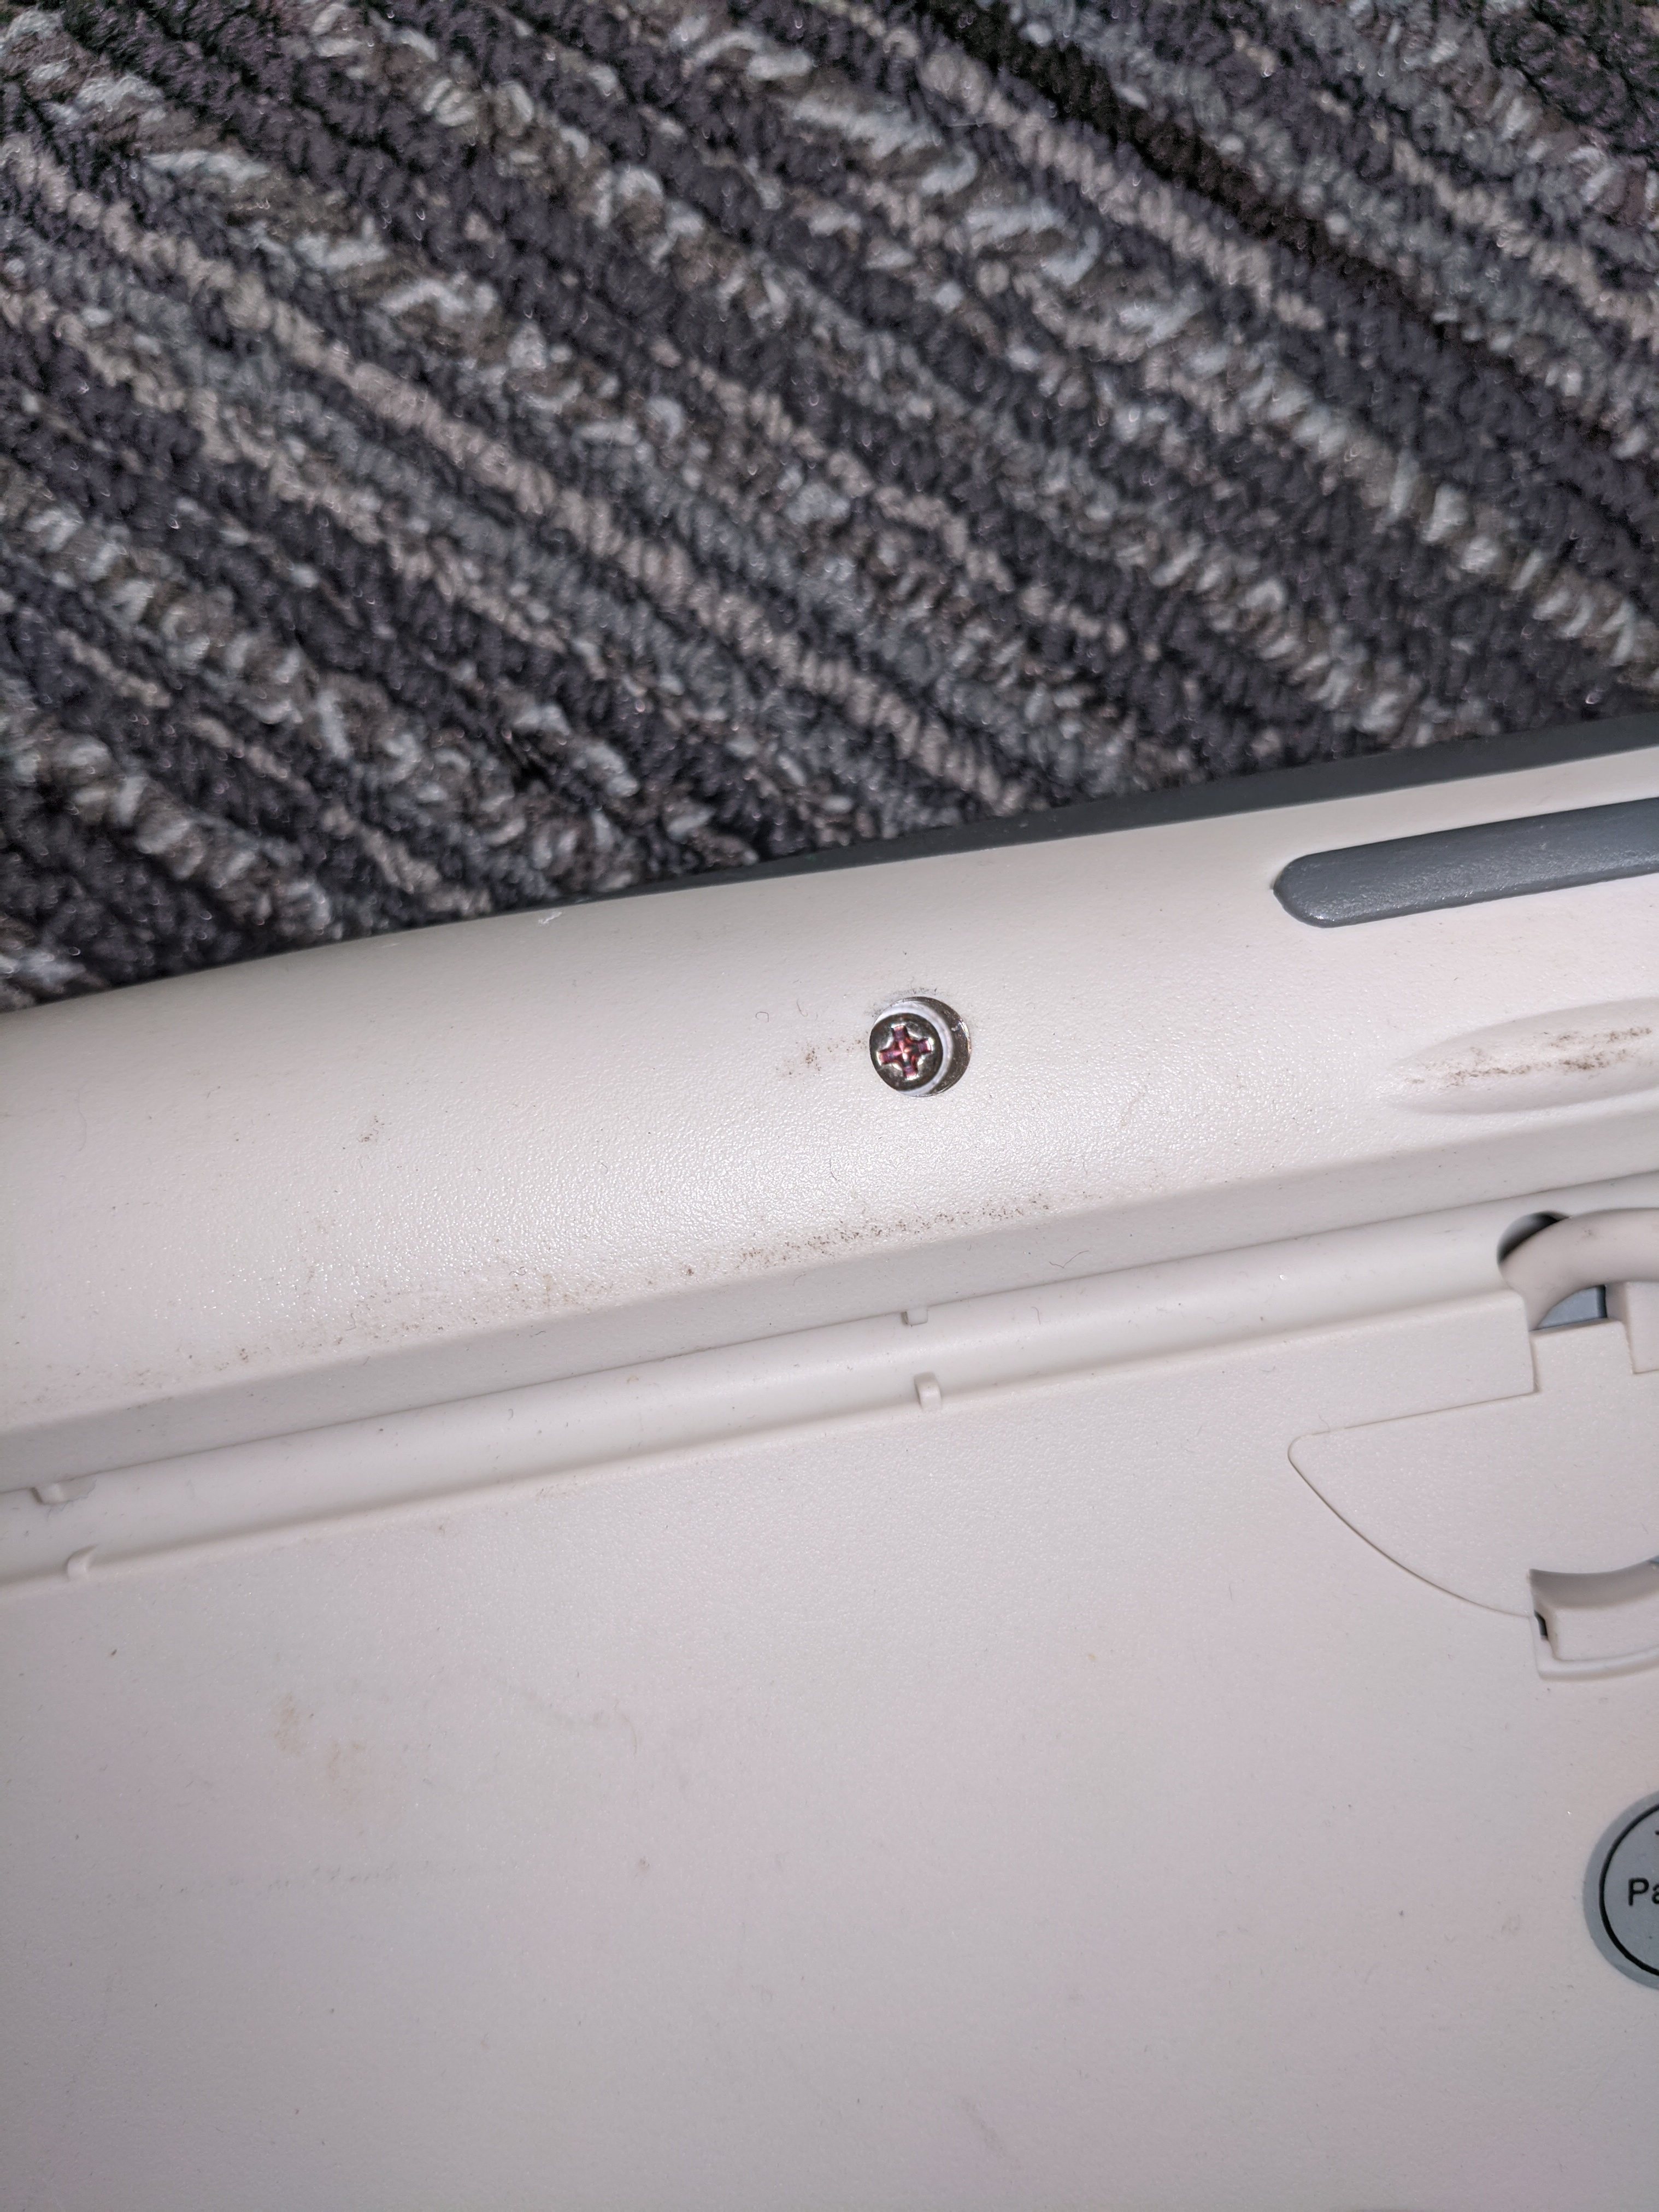cross_recessed_screw: (859, 1005, 950, 1087)
